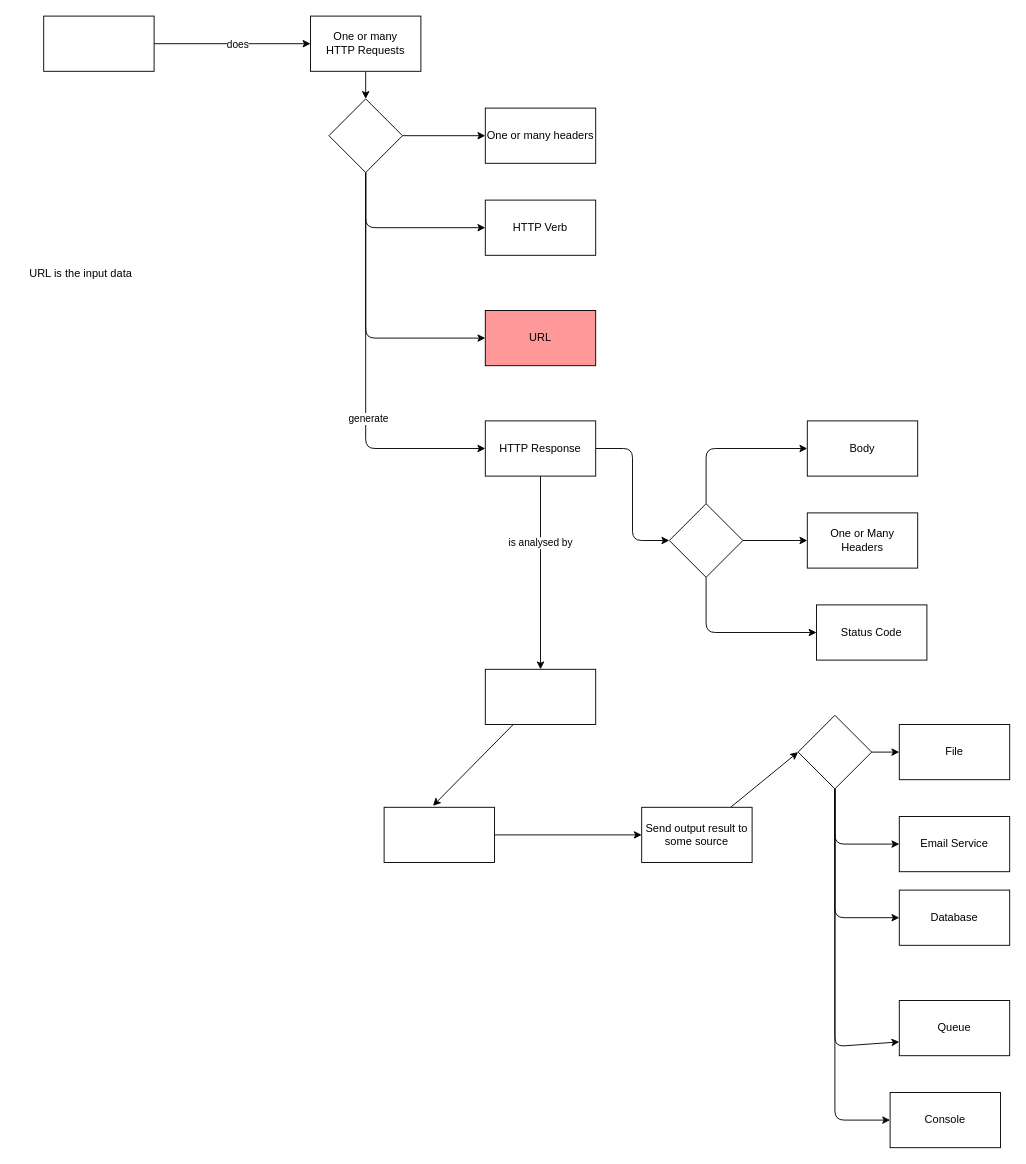
Image size: 1026x1164. Some labels were removed from this diagram. The shapes that lost their labels are listed below. From the top down, each one's centre as x and y in pixels, then its label:
At pixel 98 43: "Client/Service".
At pixel 540 696: "Header Analyser".
At pixel 438 834: "Checks if some header exist and marks as true or false".
